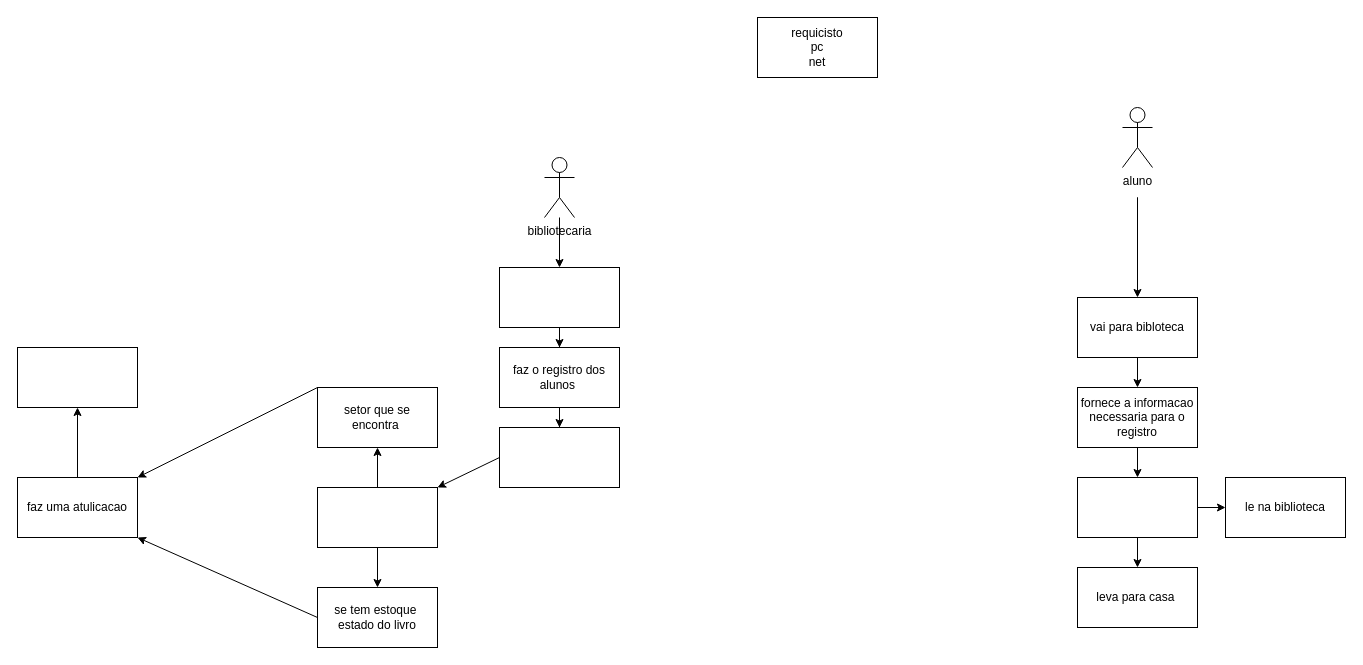
The diagram is 1363 pixels wide and 665 high, and some of its shapes have lost their labels. The shapes that lost their labels are listed below. From the top down, each one's centre as x and y in pixels, then its label:
At pixel 559 297: "recolhe inforamcoes".
At pixel 77 377: "to estoque".
At pixel 559 457: "invia a informacao para o sistema".
At pixel 377 517: "verifica o pedido dos alunos".
At pixel 1137 507: "faz o pedido".
